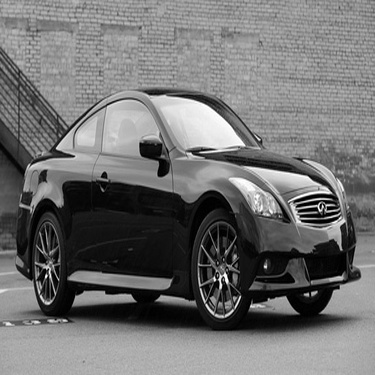car: (14, 83, 363, 331)
